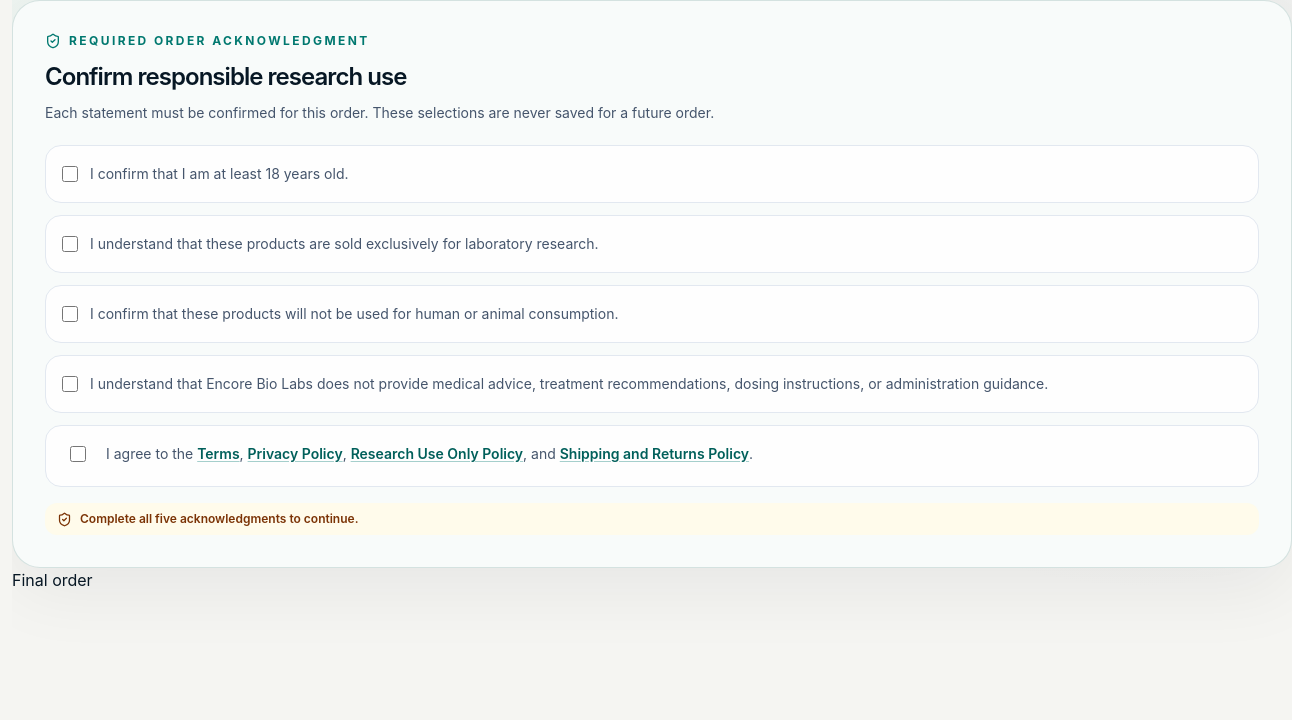
Test: checkout acknowledgment › enables the final action only after every independent checkbox is selected
The image size is (1292, 720).
Click the checkbox labelled "I confirm that I am at least 18 years old.".
click(70, 174)  # box [62,166,78,182]
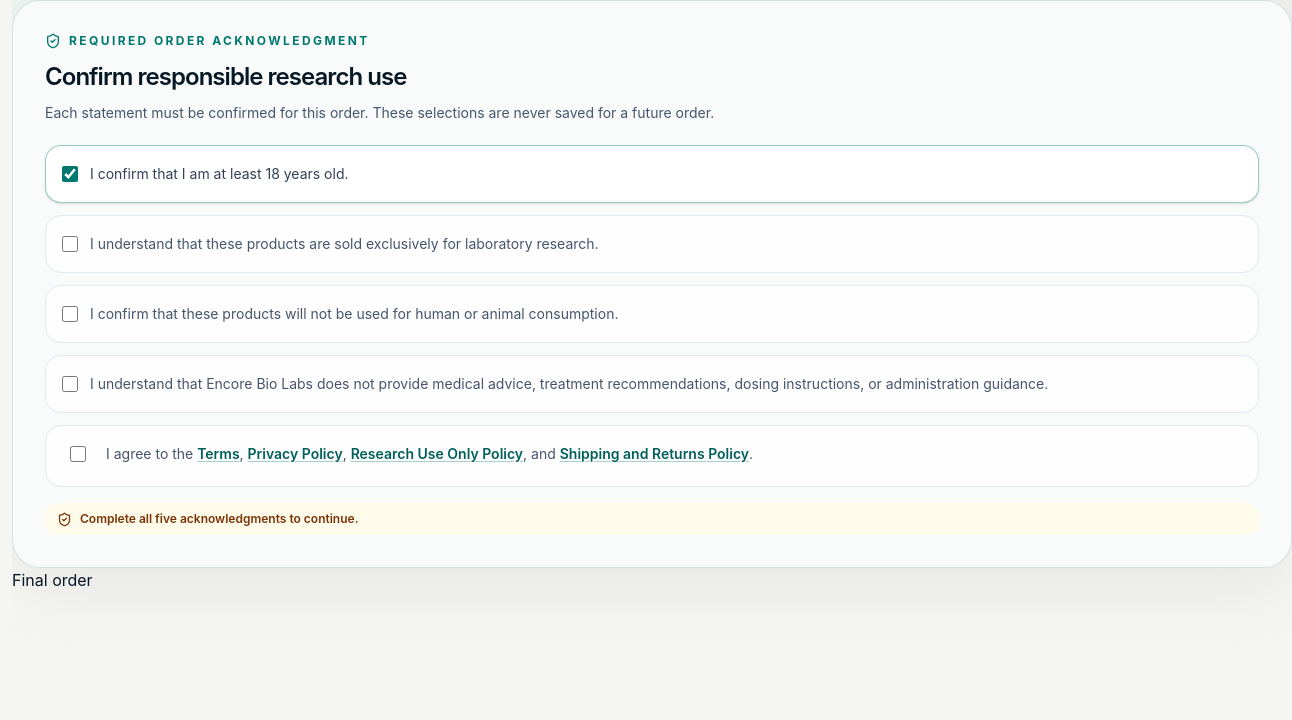
Expected: the button "Final order" is disabled, [12,568,93,592]
Click the 2nd checkbox.
click(70, 244)  # box [62,236,78,252]
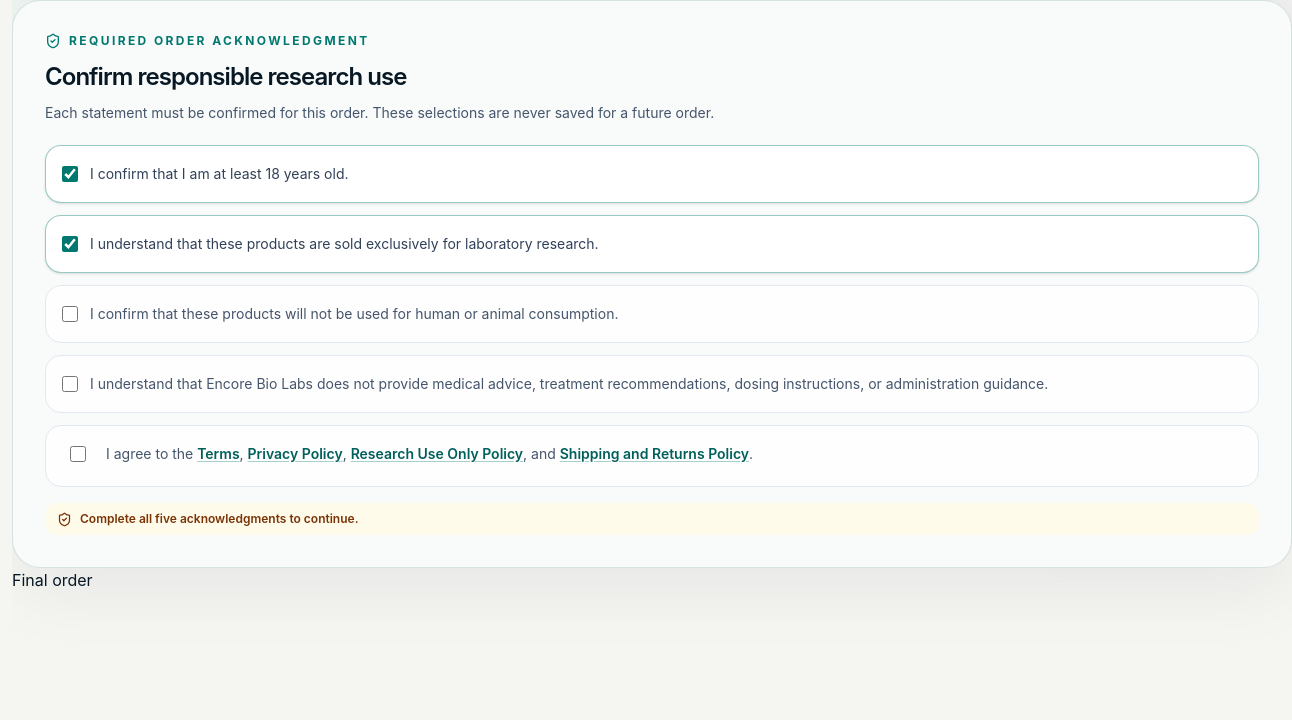
Expected: the button "Final order" is disabled, [12,568,93,592]
Click the 3rd checkbox.
click(70, 314)  # box [62,306,78,322]
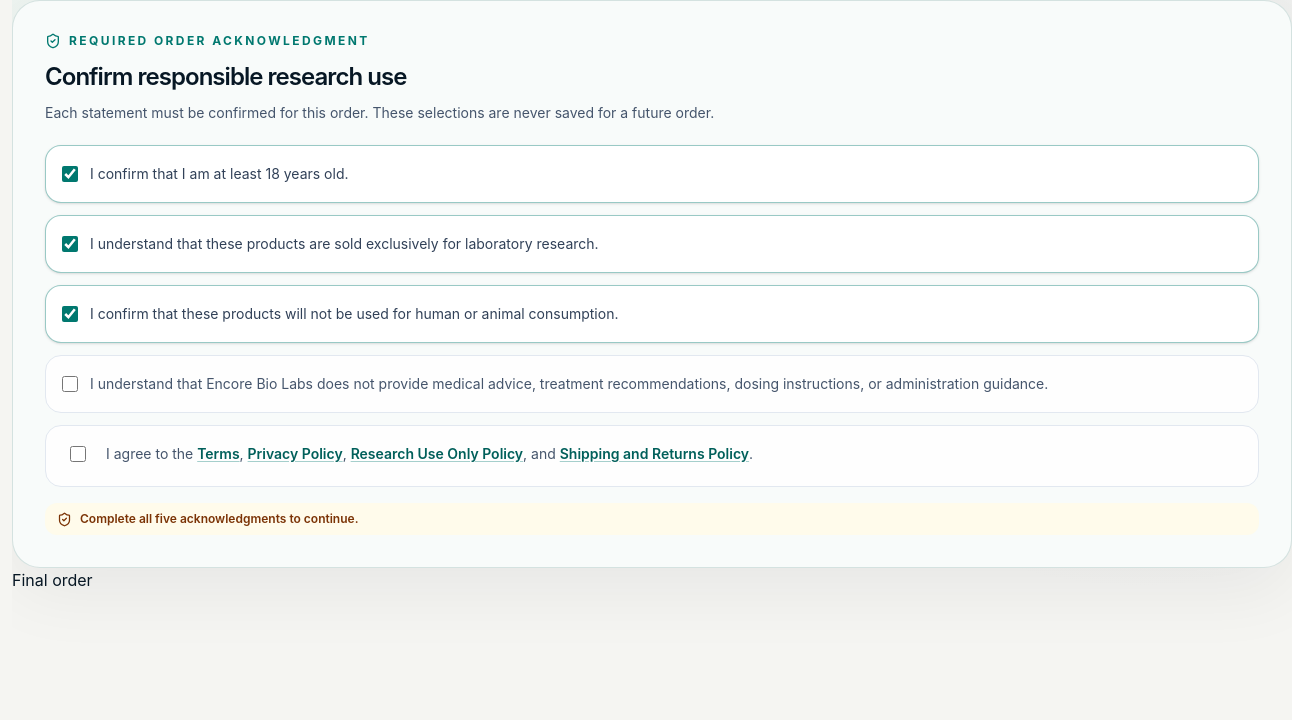
Expected: the button "Final order" is disabled, [12,568,93,592]
Click the 4th checkbox.
click(70, 384)  # box [62,376,78,392]
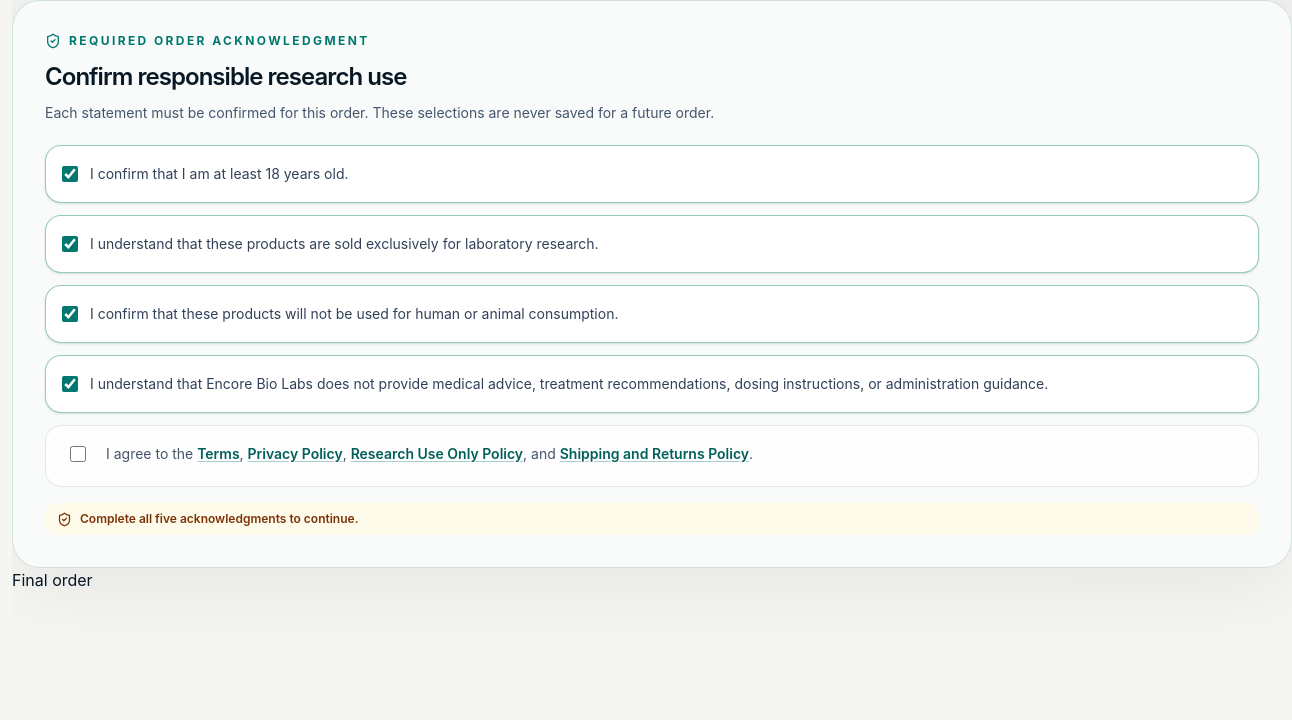
Expected: the button "Final order" is disabled, [12,568,93,592]
Click the 5th checkbox.
click(78, 454)  # box [70,446,86,462]
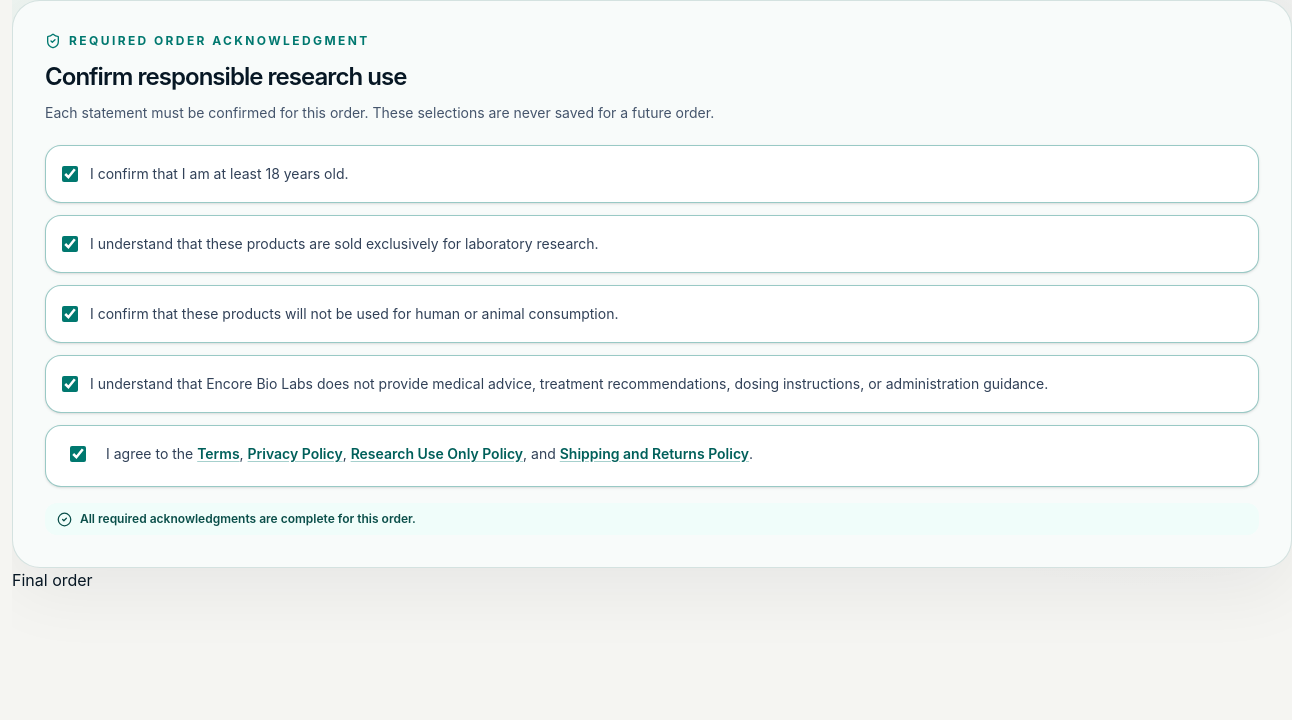
Expected: the button "Final order" is enabled, [12,568,93,592]
Result: the message "All required acknowledgments are complete for this order." is shown at [45,503,1259,535]
